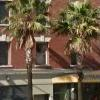Palm tree: (4, 4, 97, 76)
